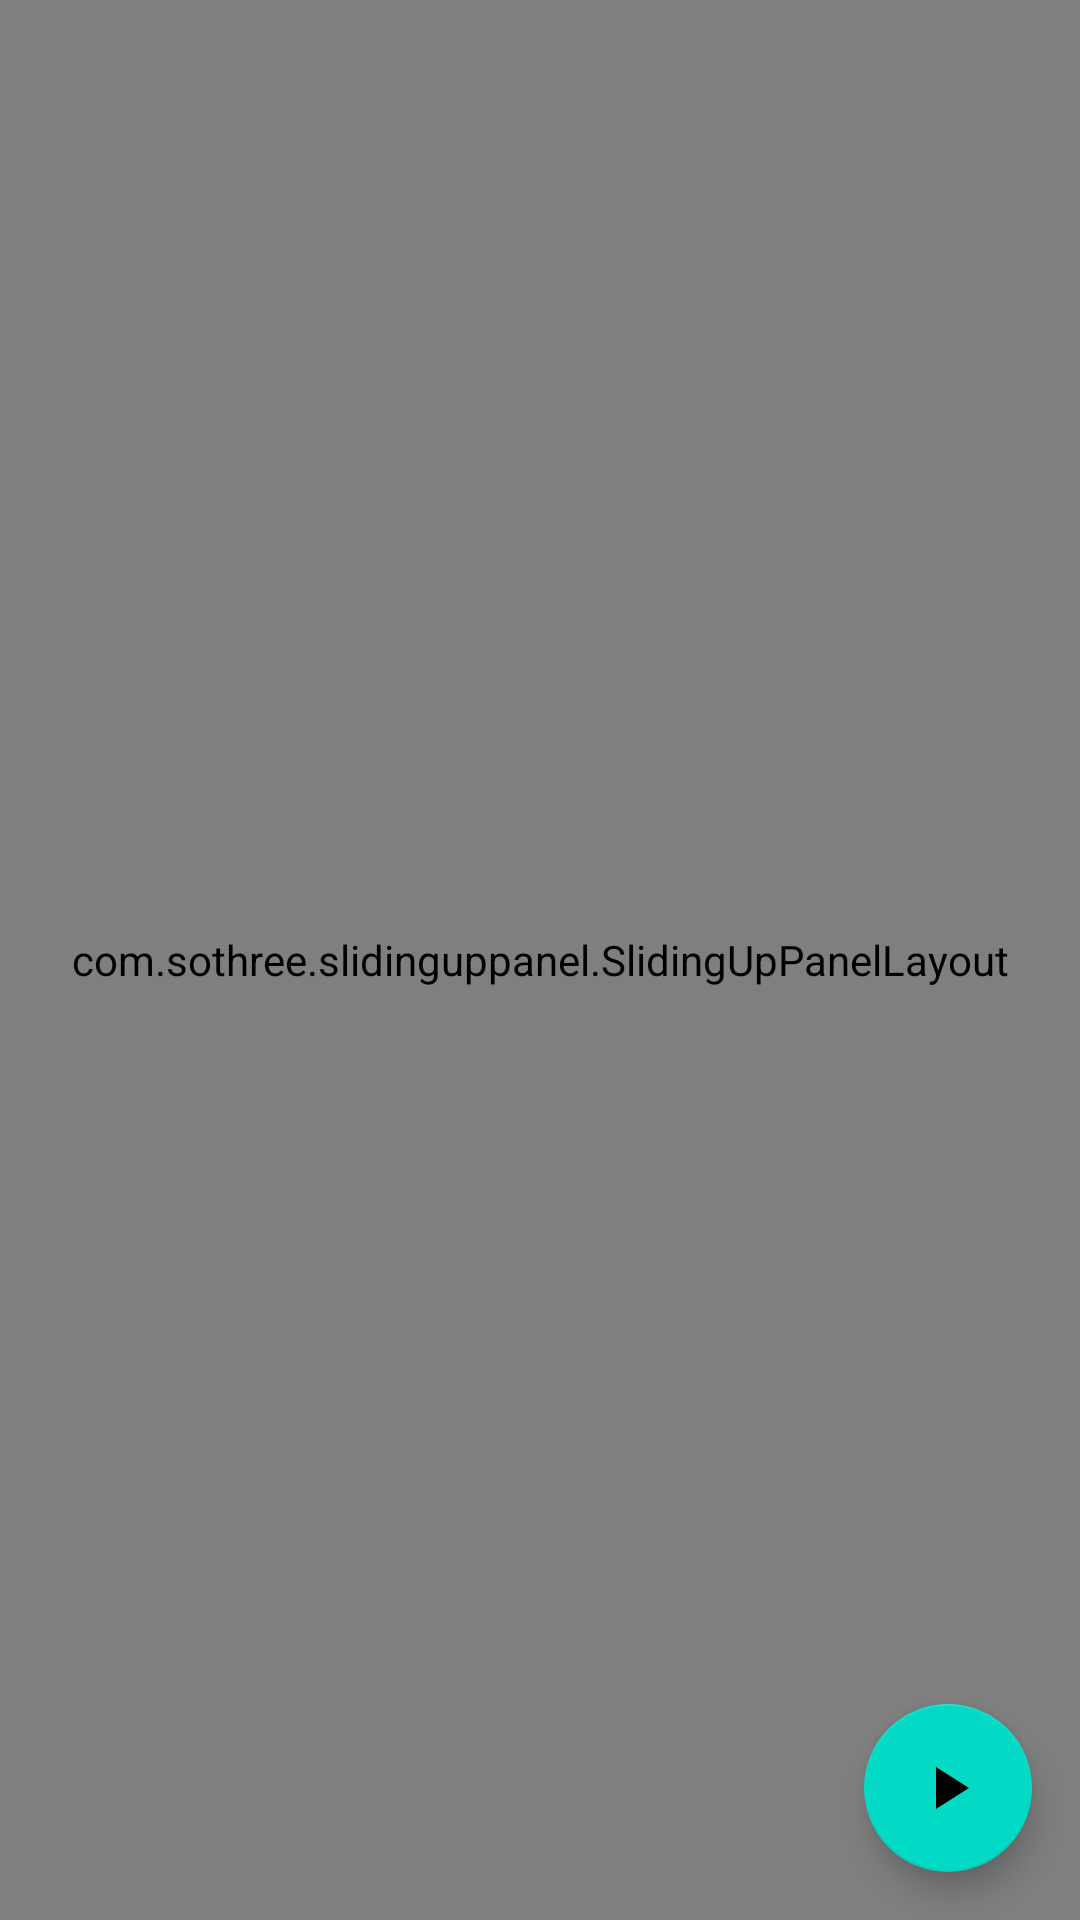

Icons on this 1080*1920 Android screen, each with its box as (x1, y1, x2, y2):
play arrow: (864, 1704, 1032, 1872)
